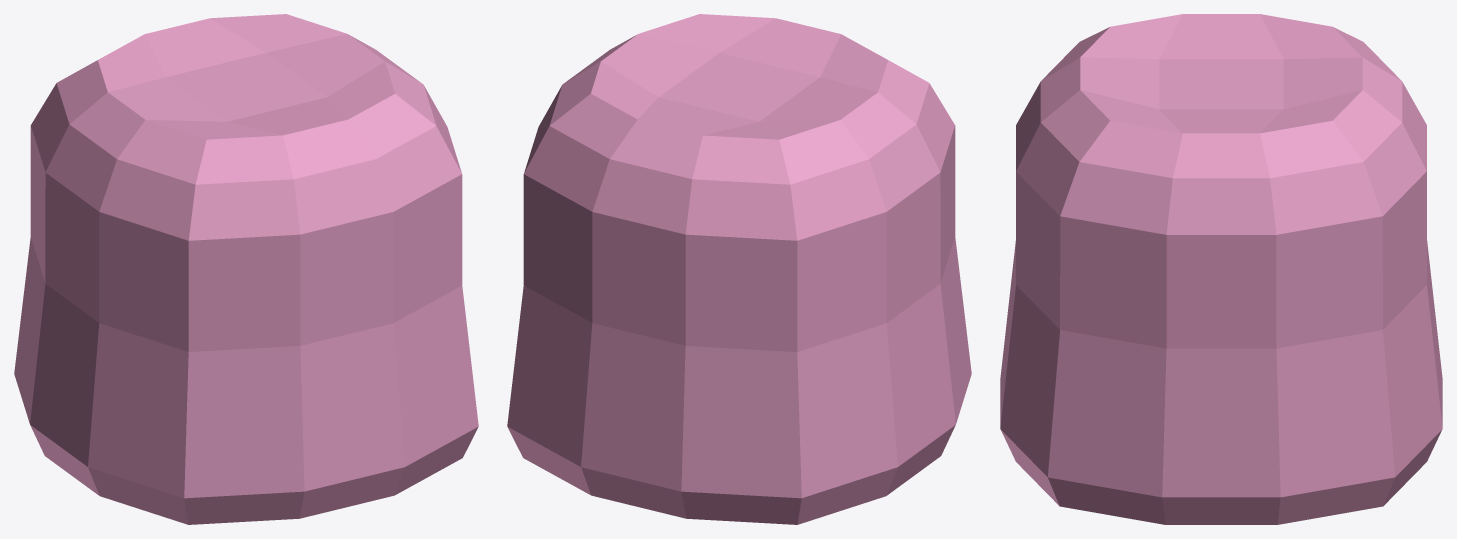
The model's file is Prop_MellowSmol2.fbx.
The picture shows the model from 3 angles, left to right: view 1: azimuth 30°, elevation 25°; view 2: azimuth 150°, elevation 25°; view 3: azimuth 270°, elevation 25°; orthographic projection. The views are drawn at different scales.
Visible parts, largest first — view 1: MellowSmol2; view 2: MellowSmol2; view 3: MellowSmol2.
Boxes of the visible parts, x1=… form: MellowSmol2: x1=14, y1=14, x2=478, y2=524; MellowSmol2: x1=507, y1=14, x2=971, y2=524; MellowSmol2: x1=1000, y1=14, x2=1442, y2=524.
Bounding box in the file's own units: 87.76 × 79.78 × 87.76.
